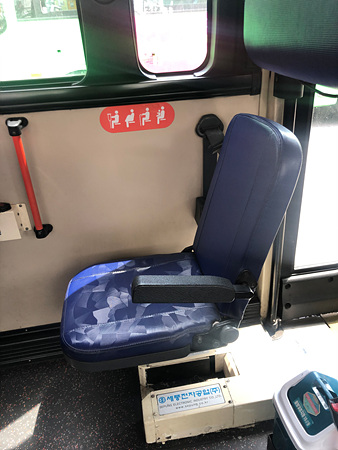seat: (60, 113, 298, 349)
